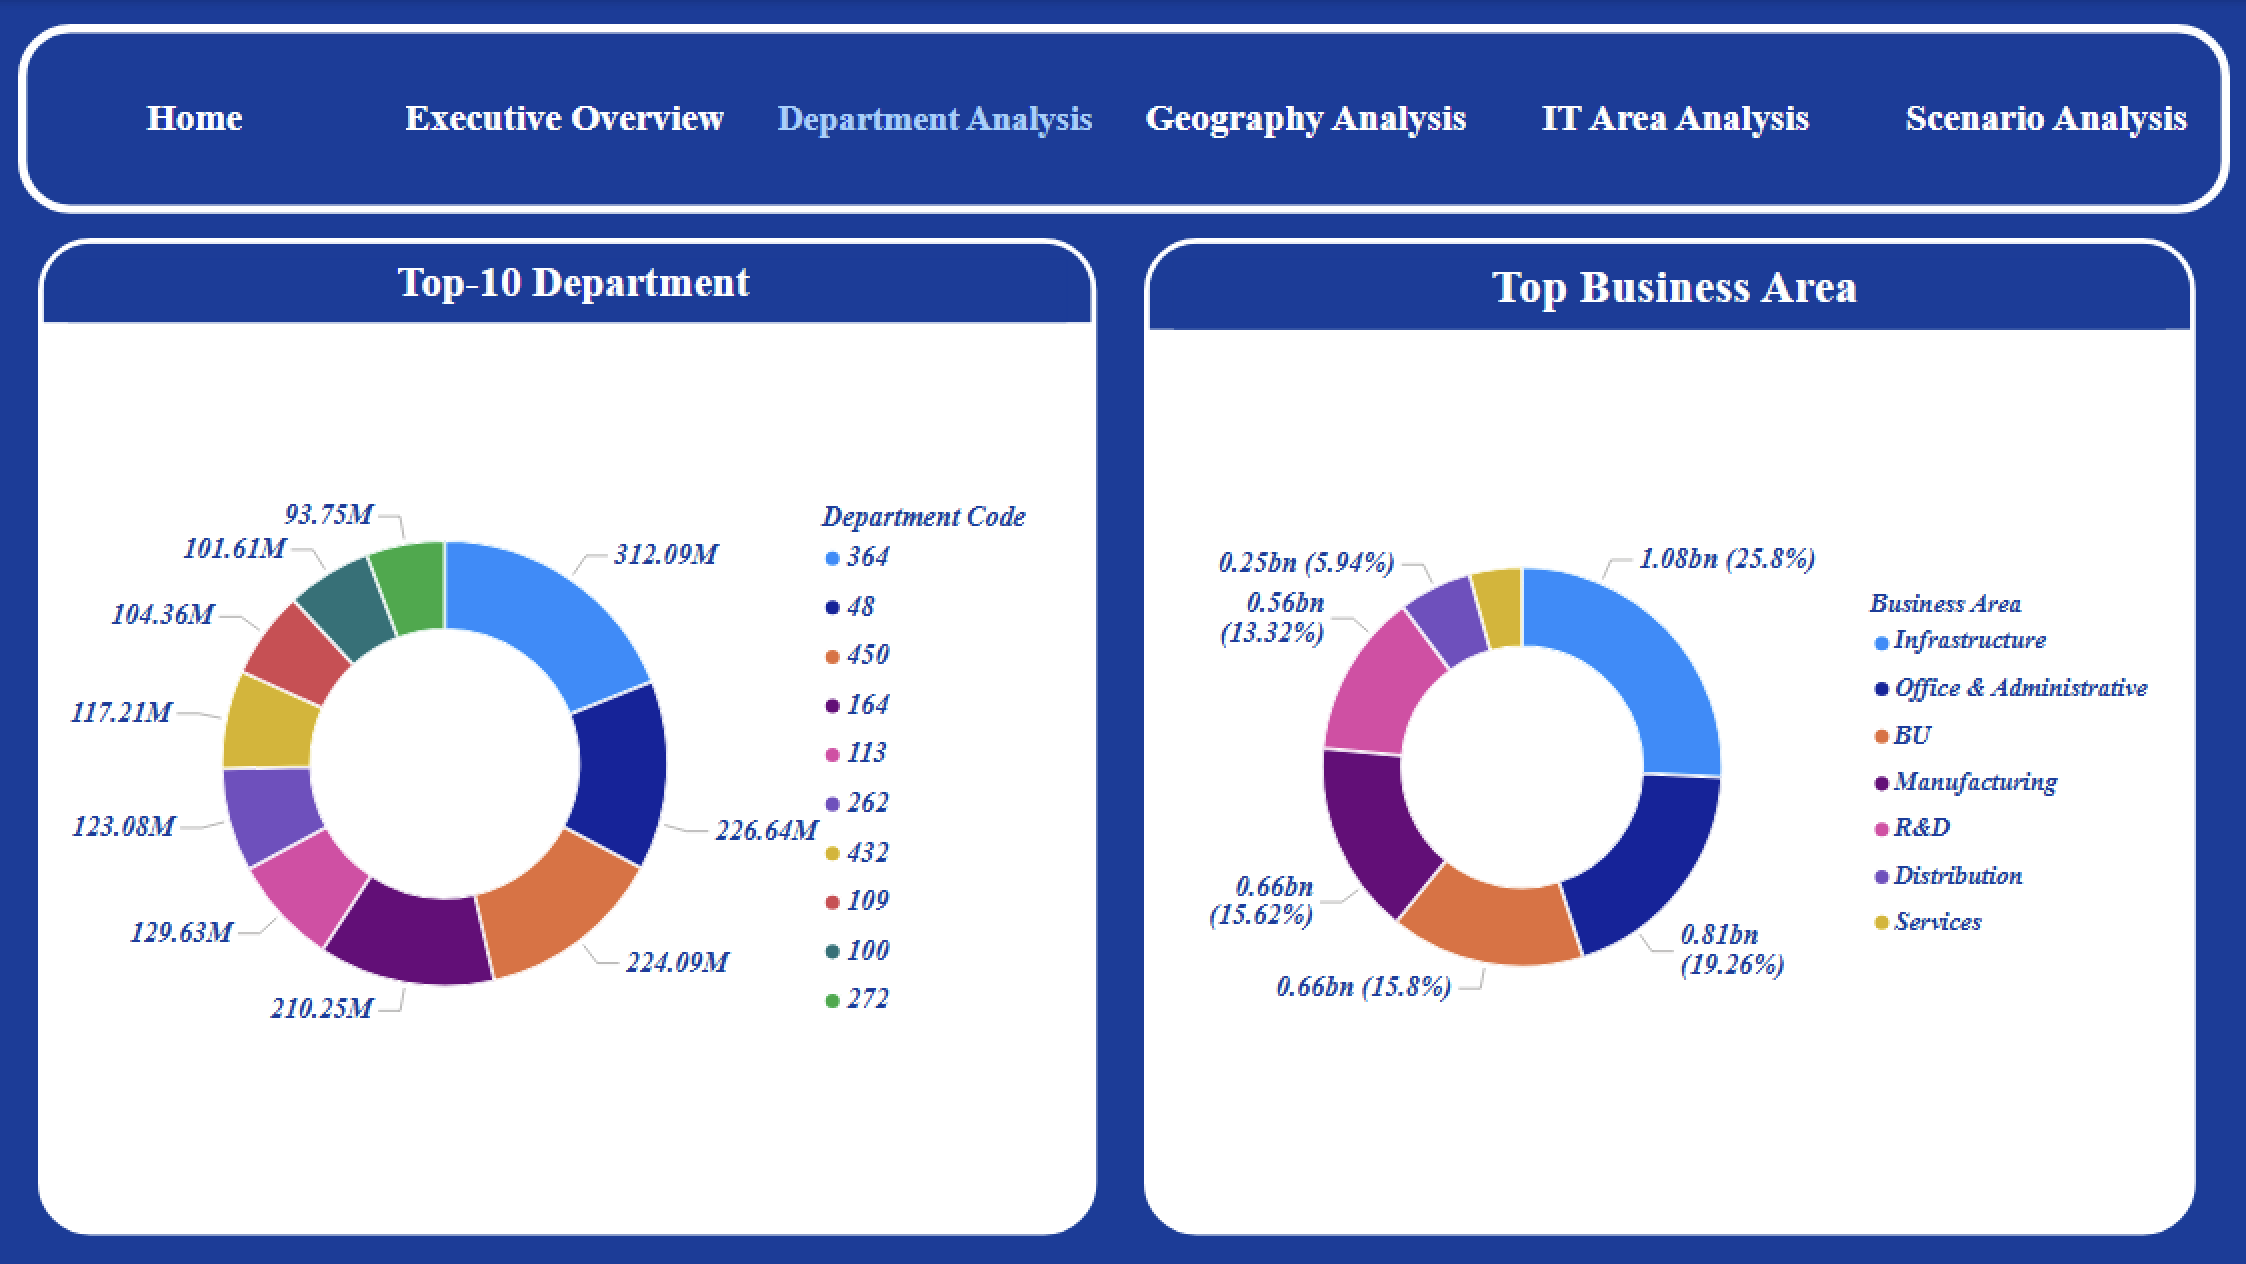

The dashboard page shown, as its layout file describes it:
{"tool":"powerbi","page":{"name":"Department Analysis","canvas":[1280,720],"ordinal":2},"visuals":[{"type":"textbox","box":[10.6,13.2,1260.2,108.3],"z":0},{"type":"donutChart","title":"Top-10 Department","fields":{"Category":["Department.Department Code"],"Y":["Sum(Transaction.Transaction Value)"]},"box":[21.9,135,603.5,567.7],"z":2000},{"type":"donutChart","title":"Top Business Area","fields":{"Category":["Department.Business Area"],"Y":["Sum(Transaction.Transaction Value)"]},"box":[651.9,135,598.8,567.7],"z":3000},{"type":"pageNavigator","box":[10.7,24.9,1259.9,85.3],"z":4000}]}

Visuals, with their boxes in screenshot pixels (x1, y1, x2, y2), scaled from the page's 1280x720 canvas onto the 2246x1264 screenshot:
textbox: [left=19, top=23, right=2230, bottom=213]
"Top-10 Department" donutChart: [left=38, top=237, right=1097, bottom=1234]
"Top Business Area" donutChart: [left=1144, top=237, right=2195, bottom=1234]
pageNavigator: [left=19, top=44, right=2230, bottom=193]
